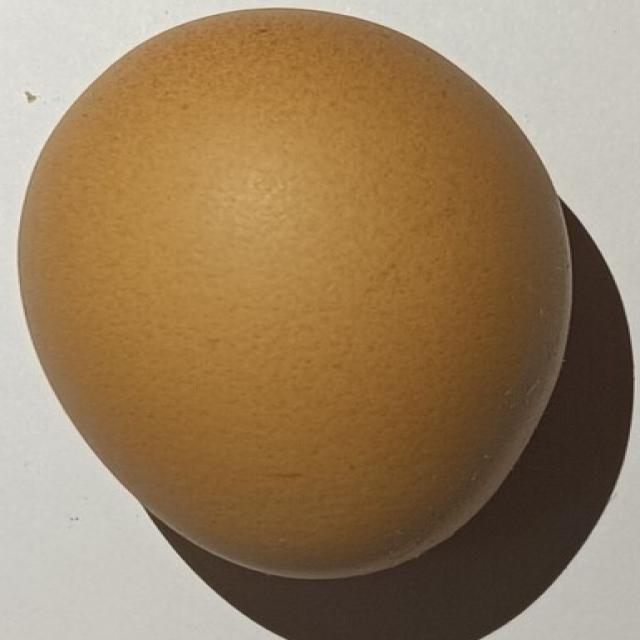fresh: (9, 0, 578, 586)
